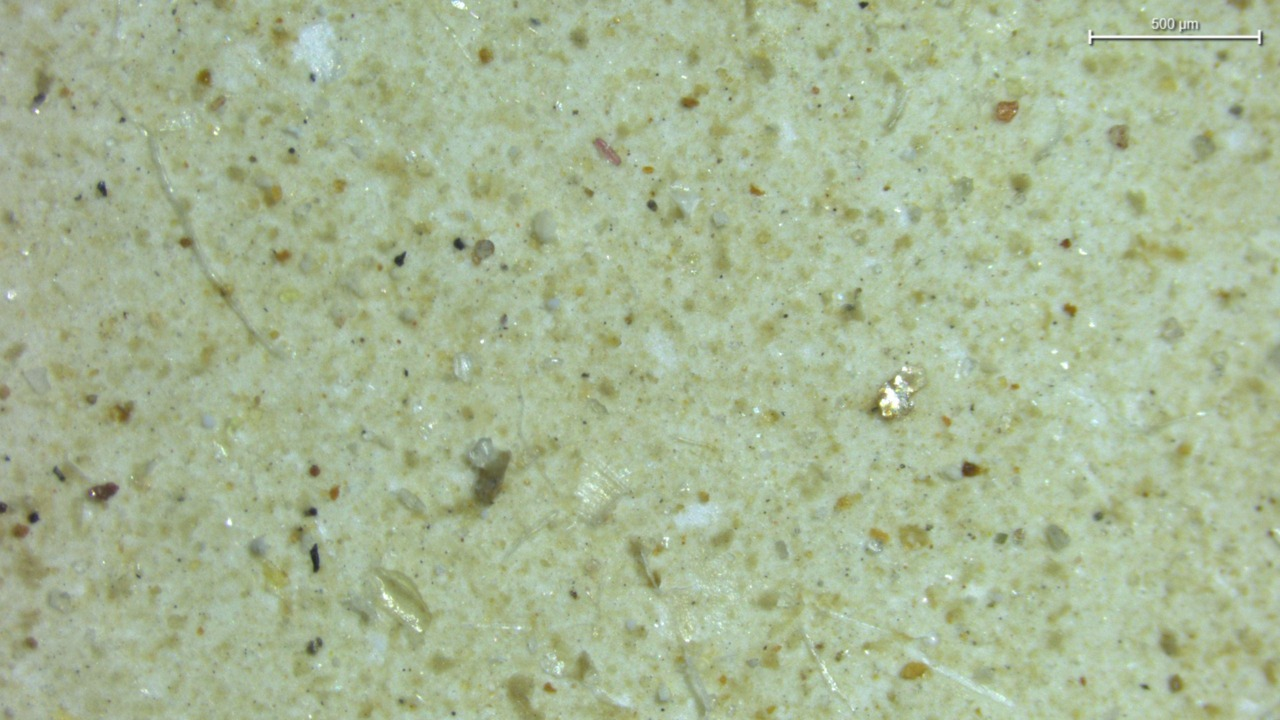microplastic_fragment: (346, 567, 430, 633), (574, 460, 627, 521), (468, 438, 510, 505), (877, 366, 921, 418), (529, 210, 557, 244), (671, 187, 701, 217), (453, 353, 472, 381), (248, 536, 269, 556)
